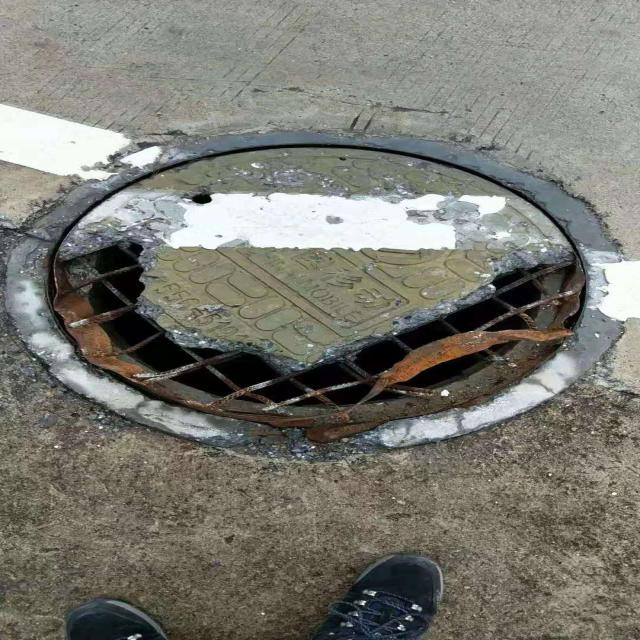Broken: (6, 131, 626, 461)
